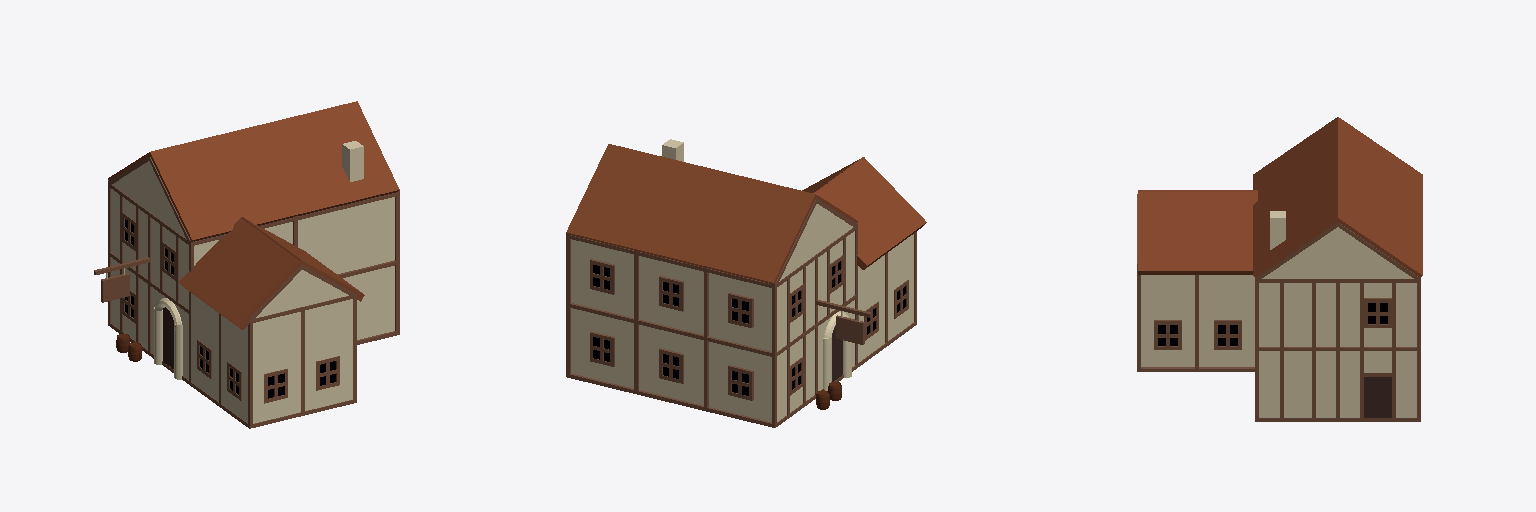
File: timberframedinn_red_yellow.obj
The picture shows the model from 3 angles: view 1: azimuth 30°, elevation 25°; view 2: azimuth 150°, elevation 25°; view 3: azimuth 270°, elevation 25°; orthographic projection.
Visible parts, largest first — view 1: Cube.007_Cube.011, Cube.005, Cube.054_Cube.057, Cube.067_Cube.072, Cylinder.001, Cube, Cube.006_Cube.010, Cube.066_Cube.071, Cube.065_Cube.070, Cube.012_Cube.017, Cube.073_Cube.078, Cube.018_Cube.016 (+1 smaller); view 2: Cube.005, Cube.007_Cube.011, Cube.067_Cube.072, Cube.054_Cube.057, Cube.023_Cube.026, Cube.022_Cube.025, Cylinder.001, Cube.021_Cube.024, Cube.020_Cube.023, Cube.015_Cube.020, Cube.008, Cube.019_Cube.022 (+7 smaller); view 3: Cube.005, Cube.007_Cube.011, Cube, Cube.054_Cube.057, Cube.003, Cube.033, Cube.009, Cube.004, Cube.031, Cube.032, Cube.027, Cube.012_Cube.017 (+8 smaller).
Boxes of the visible parts, box(x1,y1,x2,y2) form: Cube.007_Cube.011: box(108, 101, 399, 241); Cube.005: box(111, 161, 394, 379); Cube.054_Cube.057: box(191, 270, 352, 423); Cube.067_Cube.072: box(179, 217, 305, 329); Cylinder.001: box(154, 298, 182, 379); Cube: box(241, 217, 364, 301); Cube.006_Cube.010: box(342, 141, 363, 181); Cube.066_Cube.071: box(264, 369, 287, 403); Cube.065_Cube.070: box(316, 356, 339, 390); Cube.012_Cube.017: box(395, 190, 399, 334); Cube.073_Cube.078: box(101, 273, 129, 302); Cube.018_Cube.016: box(191, 193, 395, 245); Cube.005: box(571, 204, 854, 421); Cube.007_Cube.011: box(566, 144, 857, 283); Cube.067_Cube.072: box(813, 157, 926, 269); Cube.054_Cube.057: box(858, 234, 913, 362); Cube.023_Cube.026: box(567, 374, 771, 426); Cube.022_Cube.025: box(567, 303, 771, 356); Cylinder.001: box(823, 311, 851, 390); Cube.021_Cube.024: box(567, 235, 771, 287); Cube.020_Cube.023: box(728, 365, 753, 400); Cube.015_Cube.020: box(728, 293, 753, 327); Cube.008: box(590, 259, 614, 294); Cube.019_Cube.022: box(659, 348, 683, 383); Cube.005: box(1259, 227, 1416, 417); Cube.007_Cube.011: box(1253, 117, 1422, 276); Cube: box(1138, 192, 1257, 274); Cube.054_Cube.057: box(1141, 275, 1254, 366); Cube.003: box(1364, 377, 1391, 417); Cube.033: box(1364, 298, 1391, 327); Cube.009: box(1154, 320, 1181, 349); Cube.004: box(1214, 320, 1241, 349); Cube.031: box(1258, 418, 1417, 421); Cube.032: box(1258, 279, 1416, 282); Cube.027: box(1417, 277, 1420, 421); Cube.012_Cube.017: box(1255, 277, 1258, 421).
Size of the model in its own units: 15.3 by 11.25 by 14.29.